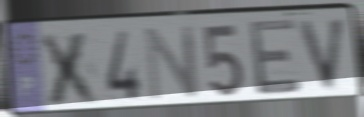4: (104, 28, 143, 103)
5: (201, 20, 246, 99)
E: (246, 16, 305, 99)
N: (142, 22, 201, 104)
V: (297, 15, 350, 94)
X: (37, 29, 104, 107)
